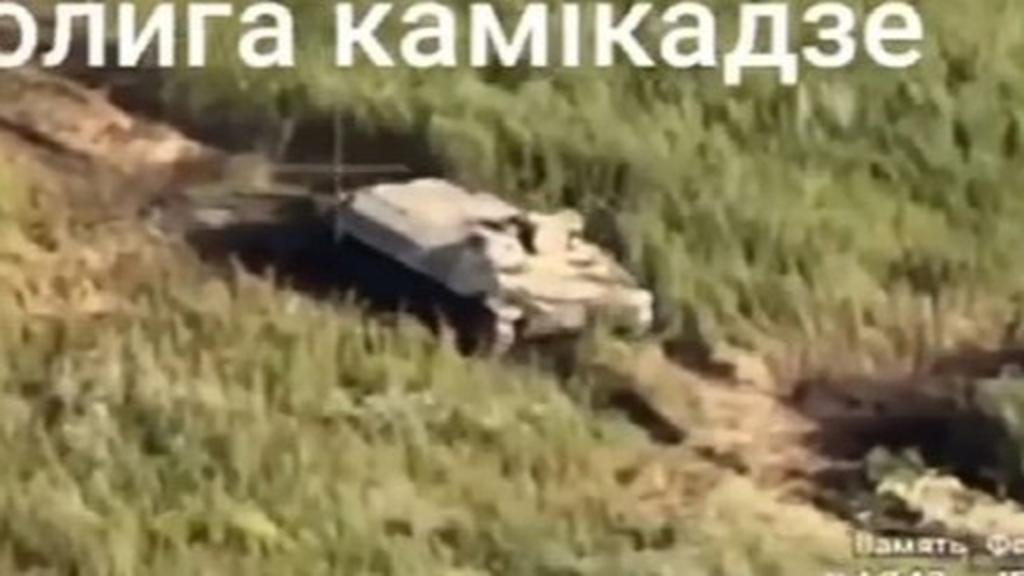APC-IFV: (320, 126, 666, 354)
